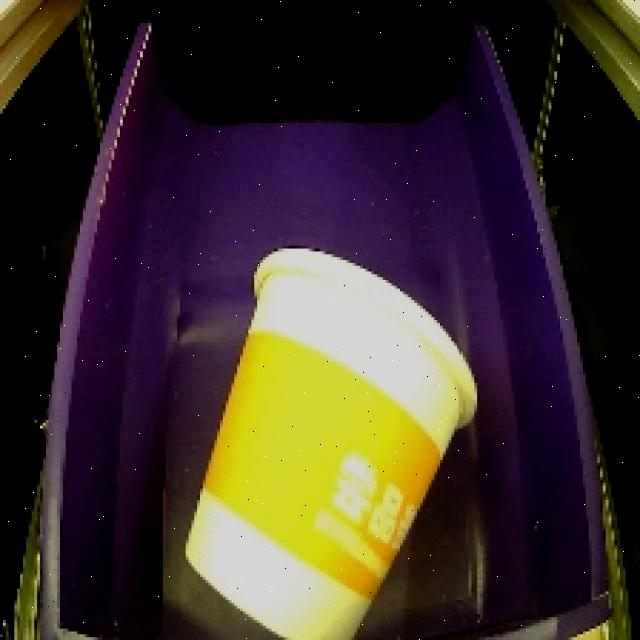cups: (170, 234, 501, 640)
